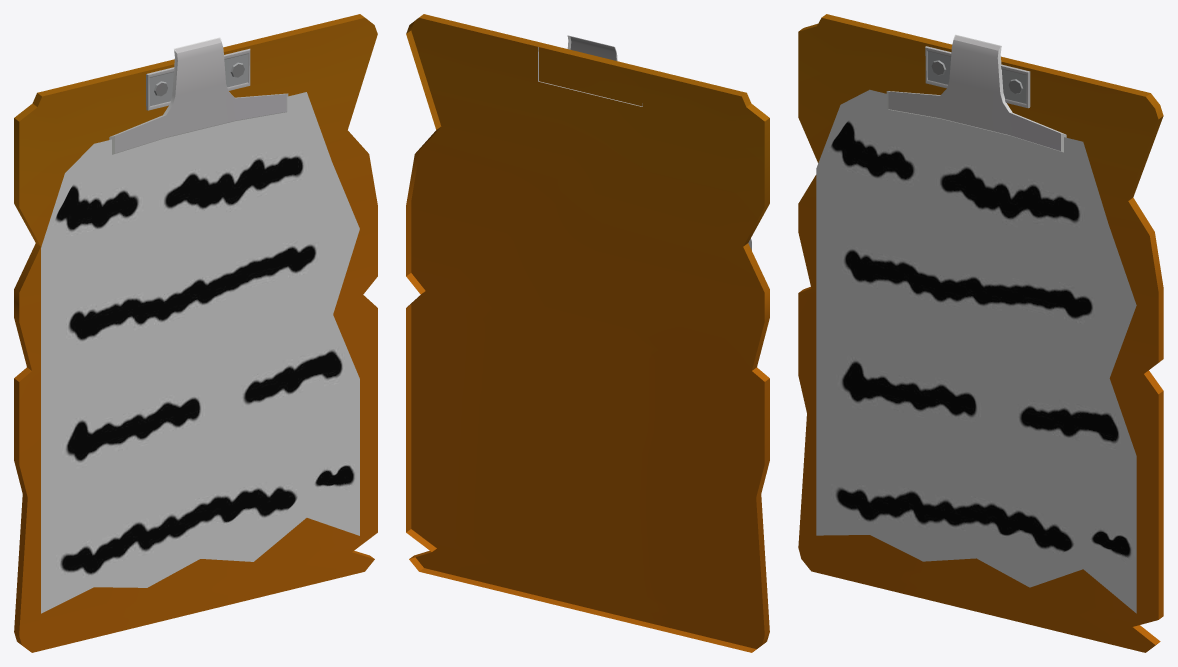
Rendered from Prancheta.fbx.
The picture shows the model from 3 angles, left to right: view 1: azimuth 30°, elevation 25°; view 2: azimuth 150°, elevation 25°; view 3: azimuth 330°, elevation 25°; orthographic projection.
Visible parts, largest first — view 1: Prancheta; view 2: Prancheta; view 3: Prancheta.
Boxes of the visible parts, x1=… form: Prancheta: x1=14, y1=14, x2=377, y2=652; Prancheta: x1=406, y1=14, x2=769, y2=652; Prancheta: x1=798, y1=14, x2=1163, y2=652.
Bounding box in the file's own units: 285 × 432 × 11.01.
